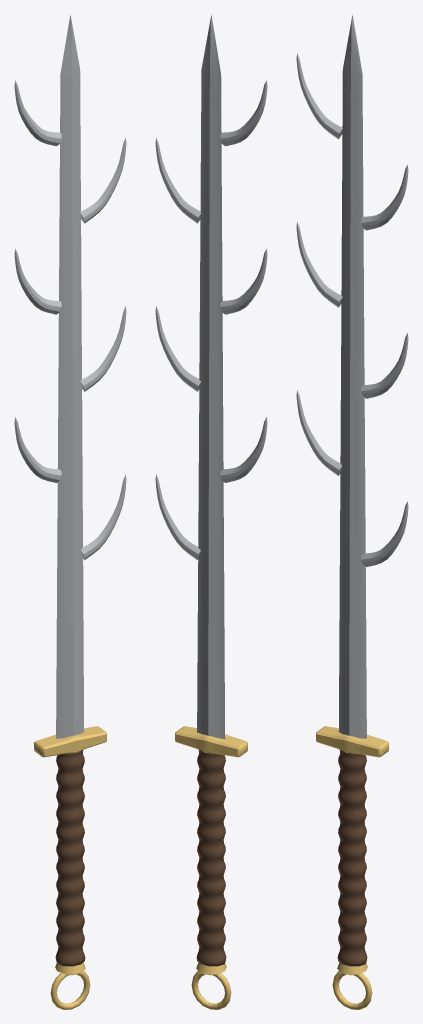
The model's file is seven-branched-sword.glb.
The picture shows the model from 3 angles, left to right: view 1: azimuth 30°, elevation 25°; view 2: azimuth 150°, elevation 25°; view 3: azimuth 330°, elevation 25°; orthographic projection.
Visible parts, largest first — view 1: seven-branched-sword; view 2: seven-branched-sword; view 3: seven-branched-sword.
Part boxes in pixels (x1,y1,x2,y2): seven-branched-sword: (14,14,126,1009); seven-branched-sword: (155,14,267,1009); seven-branched-sword: (296,14,408,1009).
Bounding box in the file's own units: 0.3343 × 2.84 × 0.0761.
